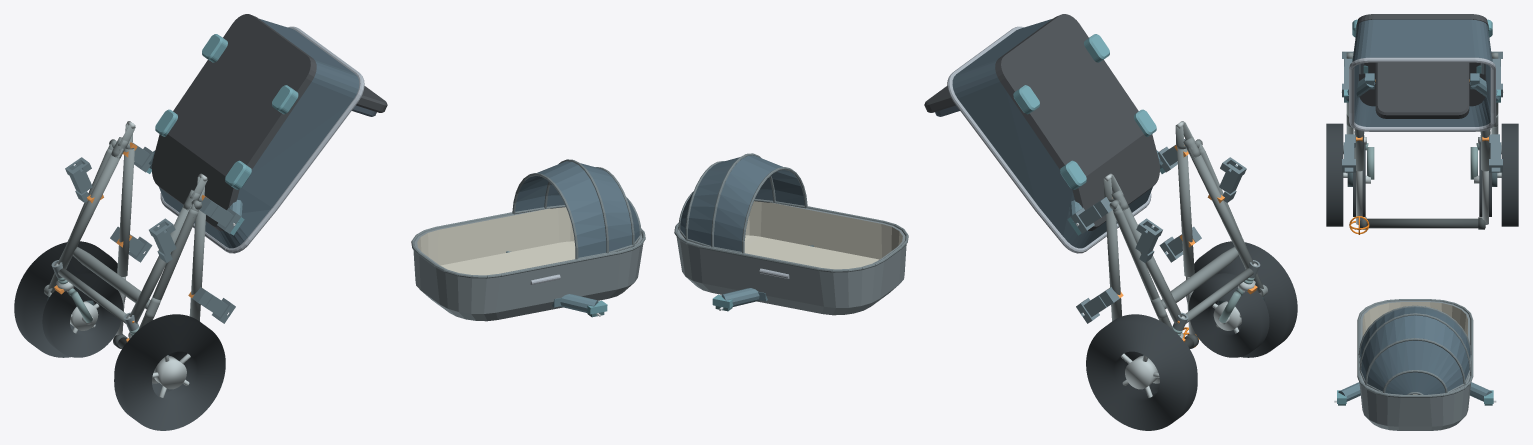
The model's file is D21_w550_state3_wheel_L.glb.
The picture shows the model from 3 angles, left to right: view 1: azimuth 30°, elevation 25°; view 2: azimuth 150°, elevation 25°; view 3: azimuth 270°, elevation 25°; orthographic projection. The views are drawn at different scales.
Visible parts, largest first — view 1: D21_Lower, D21_Upper, RL_tire.004, FR_tire.004, RR_tire.004, main_upper_1.005, main_lower_1.005, V46_rearbar.005, main_upper_-1.005, V46_rear_leg_-1.005, main_lower_-1.005, D21_Upper_Mount_H (+6 smaller); view 2: D21_Lower, D21_Upper, RR_tire.004, FL_tire.004, RL_tire.004, main_upper_-1.005, main_lower_-1.005, main_upper_1.005, V46_rearbar.005, V46_rear_leg_1.005, main_lower_1.005, RR_sealed_hub.004 (+6 smaller); view 3: D21_Lower, D21_Upper, RL_tire.004, RR_tire.004, round_handle.004, D21_Upper_Mount_H, D21_Lower_Mount_M, Universal_Cabin_Receiver_H_1, Universal_Cabin_Receiver_H_-1, FL_tire.004, FR_tire.004, handle_slider_1.004 (+7 smaller).
Part boxes in pixels (x1=…): D21_Lower: x1=152, y1=14, x2=387, y2=253; D21_Upper: x1=411, y1=159, x2=645, y2=321; RL_tire.004: x1=114, y1=314, x2=225, y2=430; FR_tire.004: x1=42, y1=273, x2=123, y2=357; RR_tire.004: x1=14, y1=241, x2=125, y2=357; main_upper_1.005: x1=117, y1=148, x2=134, y2=276; main_lower_1.005: x1=57, y1=148, x2=123, y2=268; V46_rearbar.005: x1=73, y1=247, x2=150, y2=309; main_upper_-1.005: x1=189, y1=202, x2=205, y2=321; V46_rear_leg_-1.005: x1=138, y1=208, x2=198, y2=329; main_lower_-1.005: x1=129, y1=205, x2=191, y2=323; D21_Upper_Mount_H: x1=506, y1=251, x2=607, y2=317; D21_Lower: x1=924, y1=14, x2=1159, y2=253; D21_Upper: x1=674, y1=153, x2=908, y2=315; RR_tire.004: x1=1086, y1=314, x2=1197, y2=430; FL_tire.004: x1=1188, y1=273, x2=1269, y2=357; RL_tire.004: x1=1186, y1=241, x2=1297, y2=357; main_upper_-1.005: x1=1177, y1=148, x2=1194, y2=276; main_lower_-1.005: x1=1188, y1=148, x2=1254, y2=268; main_upper_1.005: x1=1106, y1=202, x2=1121, y2=321; V46_rearbar.005: x1=1161, y1=247, x2=1238, y2=309; V46_rear_leg_1.005: x1=1113, y1=208, x2=1173, y2=329; main_lower_1.005: x1=1121, y1=207, x2=1182, y2=323; RR_sealed_hub.004: x1=1125, y1=356, x2=1158, y2=389; D21_Lower: x1=1349, y1=14, x2=1495, y2=131; D21_Upper: x1=1357, y1=299, x2=1473, y2=430; RL_tire.004: x1=1326, y1=123, x2=1343, y2=226; RR_tire.004: x1=1501, y1=123, x2=1518, y2=226; round_handle.004: x1=1366, y1=218, x2=1485, y2=228; D21_Upper_Mount_H: x1=1334, y1=382, x2=1496, y2=405; D21_Lower_Mount_M: x1=1341, y1=73, x2=1503, y2=102; Universal_Cabin_Receiver_H_1: x1=1489, y1=134, x2=1502, y2=172; Universal_Cabin_Receiver_H_-1: x1=1342, y1=134, x2=1355, y2=172; FL_tire.004: x1=1353, y1=142, x2=1365, y2=216; FR_tire.004: x1=1479, y1=142, x2=1491, y2=216; handle_slider_1.004: x1=1482, y1=171, x2=1488, y2=224.
Size of the model in its own units: 1.97 by 1.06 by 0.671.
